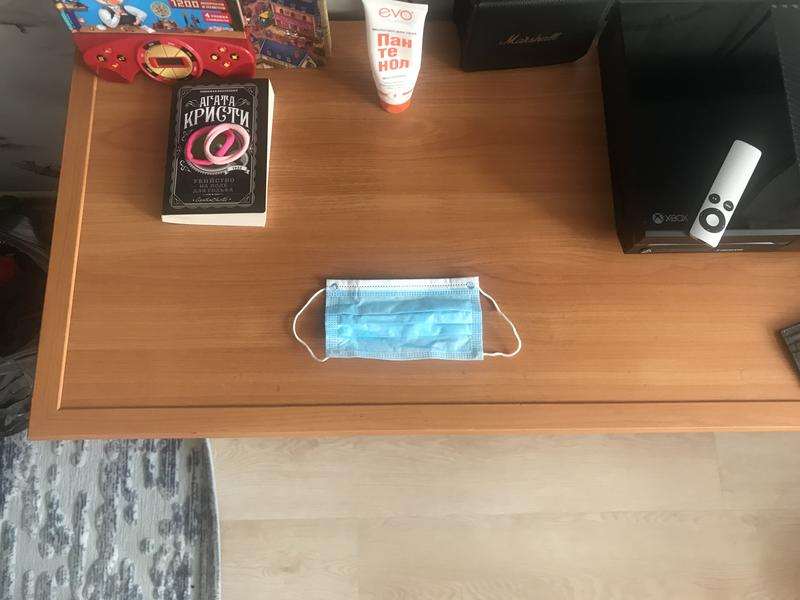medical_mask: (291, 277, 523, 364)
